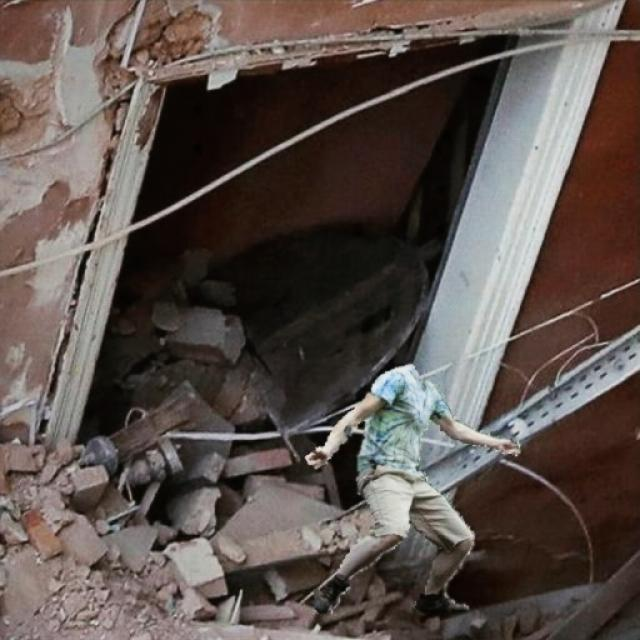Person in Rubble: (305, 363, 521, 612)
